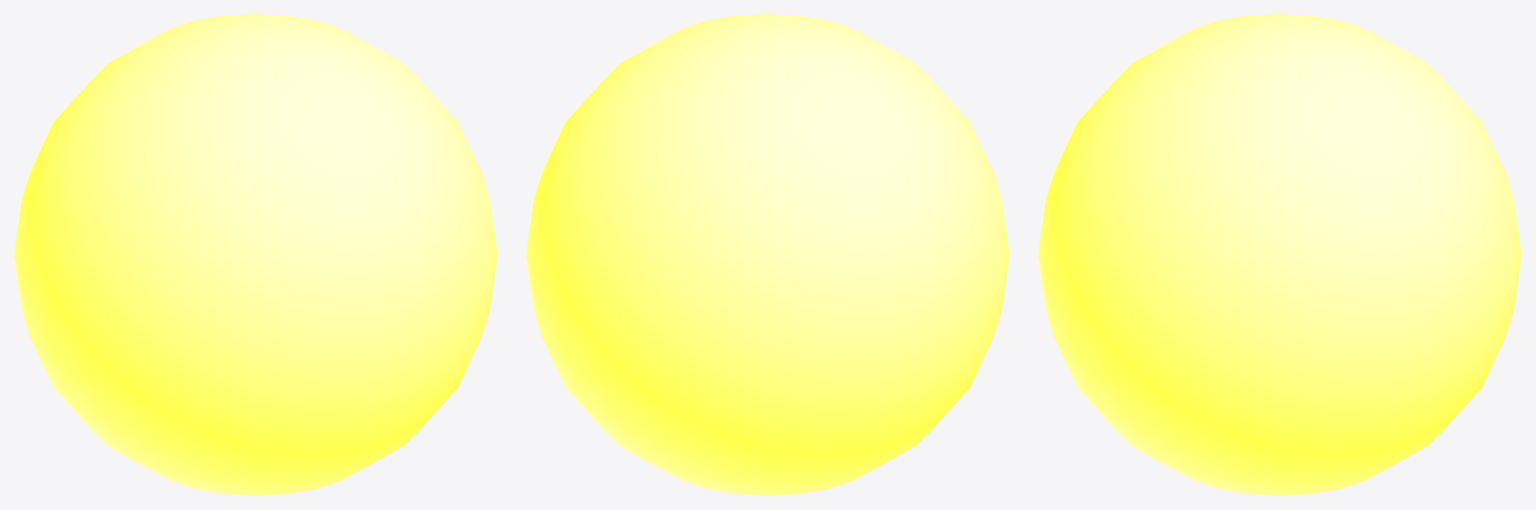
Rendered from light.gltf.
3 views of the same model, side by side, from view 1: azimuth 30°, elevation 25°; view 2: azimuth 150°, elevation 25°; view 3: azimuth 270°, elevation 25° (orthographic).
Parts seen in each view (by area): view 1: light; view 2: light; view 3: light.
Part boxes in pixels (x1,y1,x2,y2): light: [14, 14, 497, 495]; light: [526, 14, 1009, 495]; light: [1038, 14, 1521, 495].
Size of the model in its own units: 10 by 10 by 10.
